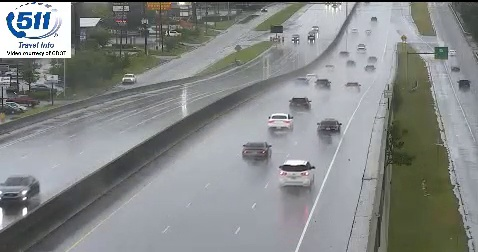car: (279, 160, 314, 186), (242, 142, 271, 160), (268, 113, 291, 130), (318, 119, 341, 135), (289, 96, 310, 111)
